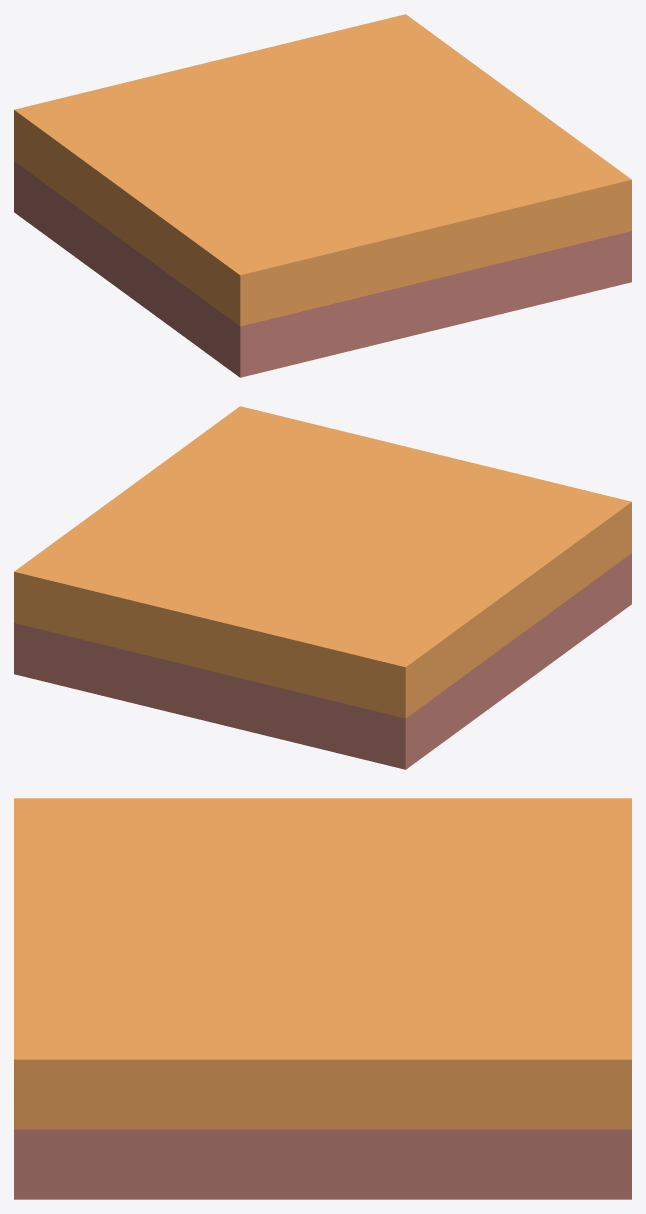
Rendered from Plain.fbx.
3 views of the same model, one above another, from view 1: azimuth 30°, elevation 25°; view 2: azimuth 150°, elevation 25°; view 3: azimuth 270°, elevation 25° (orthographic). The views are drawn at different scales.
Visible parts, largest first — view 1: Plain; view 2: Plain; view 3: Plain.
Part boxes in pixels (x1=…): Plain: x1=14, y1=14, x2=631, y2=377; Plain: x1=14, y1=406, x2=631, y2=769; Plain: x1=14, y1=798, x2=631, y2=1199.
Size of the model in its own units: 2 by 0.5 by 2.
